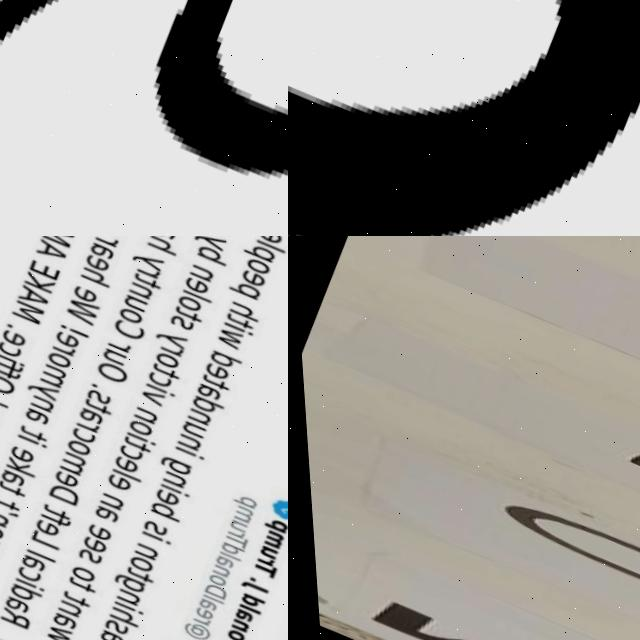2: (356, 586, 599, 640)
9: (0, 0, 288, 236)
A: (11, 285, 48, 314), (30, 239, 67, 268), (84, 505, 114, 528), (70, 408, 100, 430), (188, 385, 217, 407), (41, 613, 70, 635), (11, 555, 40, 577), (83, 243, 112, 264), (0, 595, 24, 618), (17, 409, 44, 429), (222, 610, 248, 629), (0, 468, 19, 490), (204, 557, 227, 574), (145, 236, 177, 247), (187, 600, 208, 616), (87, 630, 116, 640)
B: (191, 247, 226, 271), (142, 502, 175, 527)
C: (106, 320, 142, 347), (139, 373, 168, 395), (109, 445, 138, 466), (8, 568, 35, 587), (64, 429, 91, 448), (0, 340, 18, 362)
D: (182, 396, 221, 423), (39, 483, 75, 510), (202, 353, 237, 377), (0, 584, 33, 608), (231, 596, 257, 616), (194, 585, 220, 605), (211, 544, 237, 562)
E: (23, 261, 58, 285), (96, 473, 128, 497), (234, 271, 264, 294), (196, 363, 226, 386), (71, 535, 101, 558), (76, 524, 106, 547), (176, 278, 206, 301), (24, 518, 54, 541), (0, 445, 30, 468), (44, 470, 73, 492), (147, 490, 175, 512), (78, 255, 106, 277), (47, 331, 75, 353), (67, 286, 95, 308), (105, 457, 132, 478), (0, 328, 23, 351), (251, 236, 281, 251), (184, 608, 207, 626)
F: (31, 510, 64, 532), (0, 357, 18, 377), (0, 363, 14, 384)
G: (151, 456, 186, 481), (103, 573, 138, 597)
H: (98, 608, 134, 632), (141, 236, 176, 260), (75, 268, 110, 292), (222, 304, 257, 327)
I: (130, 532, 164, 551), (167, 447, 198, 464), (218, 324, 249, 341), (119, 433, 150, 450), (139, 385, 170, 402), (6, 578, 37, 595), (10, 435, 41, 452), (154, 486, 183, 502), (105, 603, 133, 618), (0, 353, 19, 370)
J: (230, 581, 261, 601)
K: (17, 272, 52, 297), (0, 456, 33, 480)
L: (22, 531, 55, 555), (250, 241, 284, 260), (104, 470, 135, 487), (177, 291, 208, 308), (18, 550, 49, 567), (228, 605, 254, 620), (193, 596, 217, 610), (211, 554, 233, 567)
M: (4, 300, 42, 329), (51, 451, 82, 480), (32, 365, 62, 392), (34, 236, 72, 251), (253, 533, 277, 555), (224, 508, 247, 529)
N: (90, 493, 121, 516), (167, 435, 197, 457), (46, 600, 76, 622), (122, 283, 151, 305), (22, 396, 51, 418), (152, 472, 181, 493), (126, 408, 155, 429), (124, 544, 151, 565), (185, 266, 212, 287), (105, 590, 133, 610), (180, 410, 207, 430), (220, 621, 241, 638), (203, 567, 223, 582)
O: (87, 360, 125, 389), (238, 259, 269, 282), (146, 352, 176, 375), (60, 565, 90, 588), (57, 439, 87, 462), (121, 420, 149, 442), (111, 308, 138, 329), (40, 352, 67, 373), (119, 557, 146, 577), (171, 297, 198, 317), (199, 576, 220, 592), (0, 371, 11, 400), (215, 630, 239, 640)
P: (238, 243, 273, 268), (224, 281, 257, 306), (256, 520, 283, 539), (225, 495, 252, 514)
R: (0, 606, 25, 633), (152, 343, 180, 363), (44, 342, 72, 361), (101, 340, 127, 358), (132, 266, 157, 284), (70, 420, 94, 438), (89, 236, 115, 251), (248, 558, 268, 572), (183, 618, 203, 631), (219, 530, 238, 543)
S: (132, 521, 161, 542), (162, 315, 191, 336), (67, 549, 95, 569), (79, 390, 107, 410), (94, 620, 121, 640)
T: (126, 274, 160, 296), (219, 315, 252, 337), (51, 591, 84, 613), (194, 375, 226, 397), (58, 576, 90, 598), (76, 399, 108, 421), (115, 568, 147, 589), (144, 364, 176, 385), (168, 307, 200, 328), (113, 437, 145, 458), (11, 425, 43, 446), (34, 504, 65, 524), (243, 563, 270, 584), (215, 535, 240, 554), (0, 479, 20, 501), (0, 493, 12, 514)
U: (94, 348, 123, 370), (116, 297, 145, 318), (174, 423, 201, 444), (250, 547, 271, 564), (220, 522, 240, 537)
V: (132, 389, 162, 412)
W: (58, 297, 98, 331), (209, 329, 240, 355), (34, 625, 64, 640)
Y: (19, 379, 56, 406), (149, 329, 184, 354), (126, 252, 162, 276), (188, 236, 224, 256)
